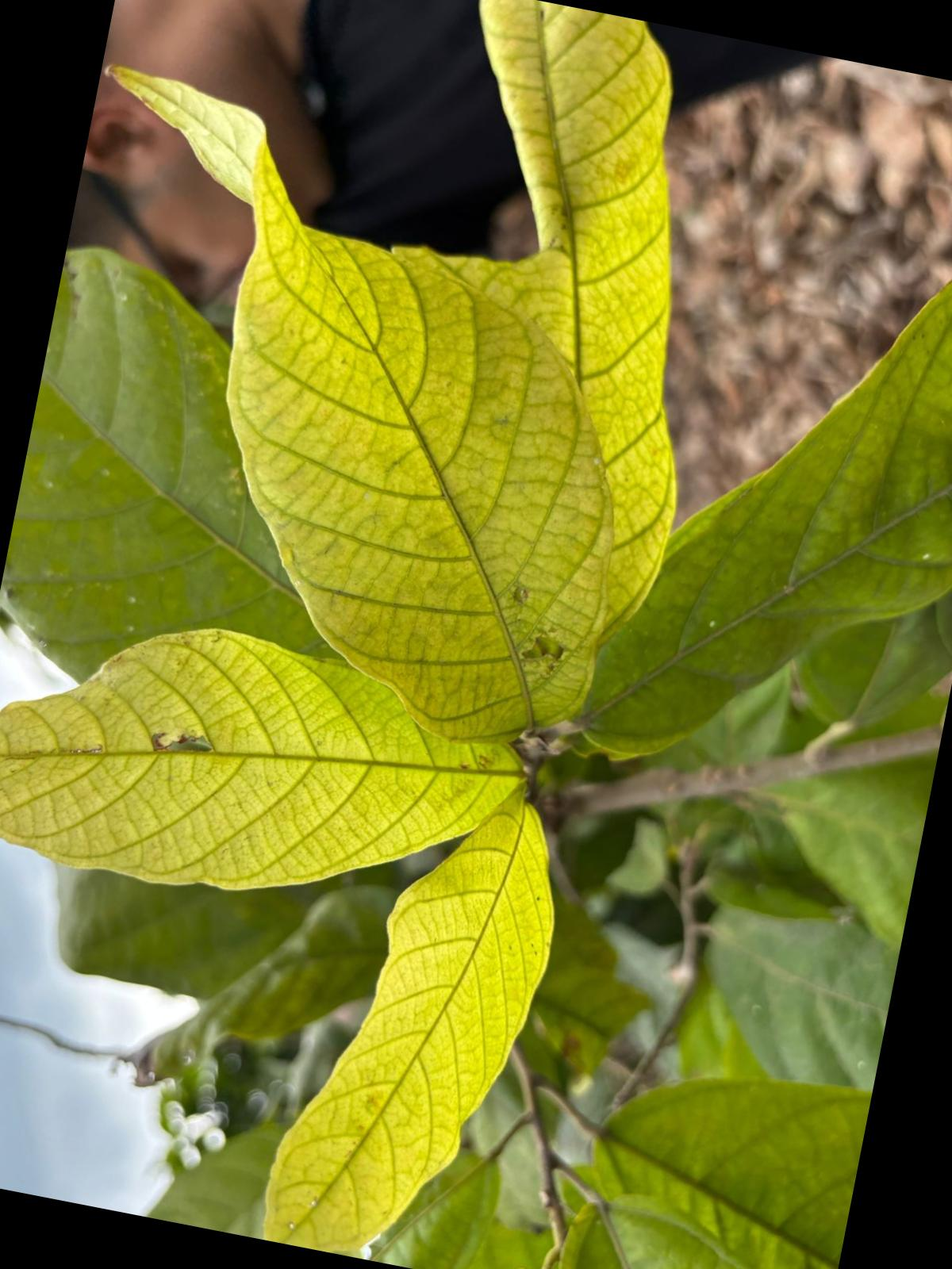Nitrogeno: (227, 143, 612, 742), (265, 787, 553, 1253)
